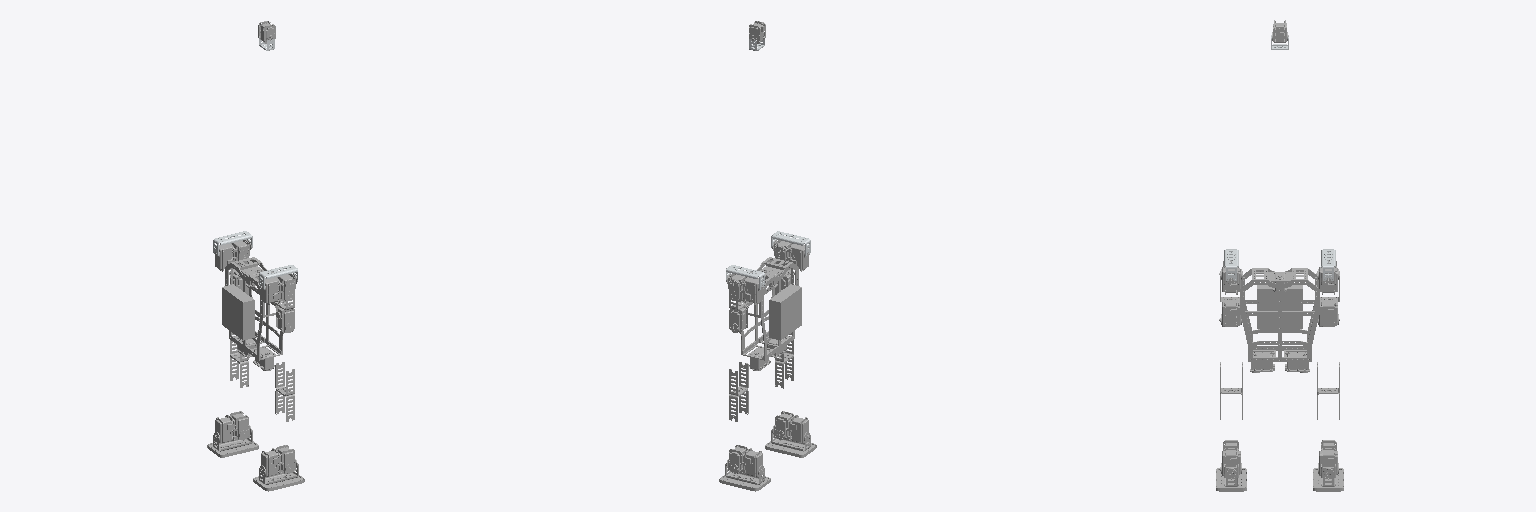
The robot description file, URDF, robot "main_new_feet_no_arm_update_motor":
<?xml version="1.0" encoding="utf-8"?>
<!-- This URDF was automatically created by SolidWorks to URDF Exporter! Originally created by [author] ([email redacted]) 
     Commit Version: 1.5.0-0-g9aa0fdb  Build Version: 1.5.7004.21443
     For more information, please see http://wiki.ros.org/sw_urdf_exporter -->
<robot
  name="main_new_feet_no_arm_update_motor">
  <link
    name="torso">
    <inertial>
      <origin
        xyz="-0.01281 -1E-05 0.48997"
        rpy="0 0 0" />
      <mass
        value="1.558" />
      <inertia
        ixx="0.0037818"
        ixy="6.95E-12"
        ixz="-3.05E-07"
        iyy="0.0022099"
        iyz="-8.01E-13"
        izz="0.0020099" />
    </inertial>
    <visual>
      <origin
        xyz="0 0 0"
        rpy="0 0 0" />
      <geometry>
        <mesh
          filename="package://main_new_feet_no_arm_update_motor/meshes/torso.STL" />
      </geometry>
      <material
        name="">
        <color
          rgba="0.75294 0.75294 0.75294 1" />
      </material>
    </visual>
    <collision>
      <origin
        xyz="0 0 0"
        rpy="0 0 0" />
      <geometry>
        <mesh
          filename="package://main_new_feet_no_arm_update_motor/meshes/torso.STL" />
      </geometry>
    </collision>
  </link>
  <link
    name="head_p">
    <inertial>
      <origin
        xyz="0 0 -0.023536"
        rpy="0 0 0" />
      <mass
        value="0.0091975" />
      <inertia
        ixx="3.69E-06"
        ixy="1.59E-22"
        ixz="1.56E-21"
        iyy="1.5E-06"
        iyz="-3.97E-21"
        izz="3.35E-06" />
    </inertial>
    <visual>
      <origin
        xyz="0 0 0"
        rpy="0 0 0" />
      <geometry>
        <mesh
          filename="package://main_new_feet_no_arm_update_motor/meshes/head_p.STL" />
      </geometry>
      <material
        name="">
        <color
          rgba="0.89804 0.91765 0.92941 1" />
      </material>
    </visual>
    <collision>
      <origin
        xyz="0 0 0"
        rpy="0 0 0" />
      <geometry>
        <mesh
          filename="package://main_new_feet_no_arm_update_motor/meshes/head_p.STL" />
      </geometry>
    </collision>
  </link>
  <joint
    name="j_head_p"
    type="revolute">
    <origin
      xyz="0.0264999999999754 0 0.648964000000025"
      rpy="0 0 0" />
    <parent
      link="torso" />
    <child
      link="head_p" />
    <axis
      xyz="0 0 1" />
    <limit
      lower="-1.57"
      upper="1.57"
      effort="16"
      velocity="3" />
    <safety_controller
      k_velocity="0" />
  </joint>
  <link
    name="head_t">
    <inertial>
      <origin
        xyz="0.00024 0.0003 0.0127"
        rpy="0 0 0" />
      <mass
        value="0.07613" />
      <inertia
        ixx="2E-05"
        ixy="7.33E-13"
        ixz="1.74E-12"
        iyy="1.7E-05"
        iyz="3.01E-07"
        izz="1.23E-05" />
    </inertial>
    <visual>
      <origin
        xyz="0 0 0"
        rpy="0 0 0" />
      <geometry>
        <mesh
          filename="package://main_new_feet_no_arm_update_motor/meshes/head_t.STL" />
      </geometry>
      <material
        name="">
        <color
          rgba="0.752941176470588 0.752941176470588 0.752941176470588 1" />
      </material>
    </visual>
    <collision>
      <origin
        xyz="0 0 0"
        rpy="0 0 0" />
      <geometry>
        <mesh
          filename="package://main_new_feet_no_arm_update_motor/meshes/head_t.STL" />
      </geometry>
    </collision>
  </link>
  <joint
    name="j_head_t"
    type="revolute">
    <origin
      xyz="0 -0.000250000000001388 0"
      rpy="0 0 0" />
    <parent
      link="head_p" />
    <child
      link="head_t" />
    <axis
      xyz="0 1 0" />
    <limit
      lower="-1.57"
      upper="1.57"
      effort="16"
      velocity="3" />
    <safety_controller
      k_velocity="0" />
  </joint>
  <link
    name="leg_r_hip_y">
    <inertial>
      <origin
        xyz="-0.019 0 0.029685"
        rpy="0 0 0" />
      <mass
        value="0.031031" />
      <inertia
        ixx="7.47E-06"
        ixy="1.86E-20"
        ixz="-2E-20"
        iyy="4.57E-05"
        iyz="1.4E-20"
        izz="4.68E-05" />
    </inertial>
    <visual>
      <origin
        xyz="0 0 0"
        rpy="0 0 0" />
      <geometry>
        <mesh
          filename="package://main_new_feet_no_arm_update_motor/meshes/leg_r_hip_y.STL" />
      </geometry>
      <material
        name="">
        <color
          rgba="0.89804 0.91765 0.92941 1" />
      </material>
    </visual>
    <collision>
      <origin
        xyz="0 0 0"
        rpy="0 0 0" />
      <geometry>
        <mesh
          filename="package://main_new_feet_no_arm_update_motor/meshes/leg_r_hip_y.STL" />
      </geometry>
    </collision>
  </link>
  <joint
    name="j_leg_r_hip_y"
    type="revolute">
    <origin
      xyz="0.018999999999975 -0.0612500000000002 0.315000000000024"
      rpy="0 0 0" />
    <parent
      link="torso" />
    <child
      link="leg_r_hip_y" />
    <axis
      xyz="0 0 1" />
    <limit
      lower="-1.57"
      upper="1.57"
      effort="16"
      velocity="3" />
    <safety_controller
      k_velocity="0" />
  </joint>
  <link
    name="leg_r_hip_r">
    <inertial>
      <origin
        xyz="-0.0209 -0.00096 0.01844"
        rpy="0 0 0" />
      <mass
        value="0.32716" />
      <inertia
        ixx="0.00013415"
        ixy="3.42E-12"
        ixz="1.85E-06"
        iyy="0.00013269"
        iyz="1.88E-06"
        izz="8.36E-05" />
    </inertial>
    <visual>
      <origin
        xyz="0 0 0"
        rpy="0 0 0" />
      <geometry>
        <mesh
          filename="package://main_new_feet_no_arm_update_motor/meshes/leg_r_hip_r.STL" />
      </geometry>
      <material
        name="">
        <color
          rgba="0.75294 0.75294 0.75294 1" />
      </material>
    </visual>
    <collision>
      <origin
        xyz="0 0 0"
        rpy="0 0 0" />
      <geometry>
        <mesh
          filename="package://main_new_feet_no_arm_update_motor/meshes/leg_r_hip_r.STL" />
      </geometry>
    </collision>
  </link>
  <joint
    name="j_leg_r_hip_r"
    type="revolute">
    <origin
      xyz="0.000500000000000056 0 0"
      rpy="0 0 0" />
    <parent
      link="leg_r_hip_y" />
    <child
      link="leg_r_hip_r" />
    <axis
      xyz="1 0 0" />
    <limit
      lower="-1.57"
      upper="1.57"
      effort="16"
      velocity="3" />
    <safety_controller
      k_velocity="0" />
  </joint>
  <link
    name="leg_r_hip_p">
    <inertial>
      <origin
        xyz="-0.00016 -0.00155 -0.0983"
        rpy="0 0 0" />
      <mass
        value="0.187828259" />
      <inertia
        ixx="0.000102845"
        ixy="4.09E-09"
        ixz="-2.79E-08"
        iyy="7.48E-05"
        iyz="-1.87E-06"
        izz="5.88E-05" />
    </inertial>
    <visual>
      <origin
        xyz="0 0 0"
        rpy="0 0 0" />
      <geometry>
        <mesh
          filename="package://main_new_feet_no_arm_update_motor/meshes/leg_r_hip_p.STL" />
      </geometry>
      <material
        name="">
        <color
          rgba="0.752941176470588 0.752941176470588 0.752941176470588 1" />
      </material>
    </visual>
    <collision>
      <origin
        xyz="0 0 0"
        rpy="0 0 0" />
      <geometry>
        <mesh
          filename="package://main_new_feet_no_arm_update_motor/meshes/leg_r_hip_p.STL" />
      </geometry>
    </collision>
  </link>
  <joint
    name="j_leg_r_hip_p"
    type="revolute">
    <origin
      xyz="0 0 0"
      rpy="0 0 0" />
    <parent
      link="leg_r_hip_r" />
    <child
      link="leg_r_hip_p" />
    <axis
      xyz="0 -1 0" />
    <limit
      lower="-1.57"
      upper="1.57"
      effort="16"
      velocity="3" />
    <safety_controller
      k_velocity="0" />
  </joint>
  <link
    name="leg_r_knee">
    <inertial>
      <origin
        xyz="0 0 -0.072"
        rpy="0 0 0" />
      <mass
        value="0.047124436" />
      <inertia
        ixx="5.6E-05"
        ixy="-5.08E-21"
        ixz="1.68E-20"
        iyy="3.18E-05"
        iyz="2.72E-08"
        izz="3.15E-05" />
    </inertial>
    <visual>
      <origin
        xyz="0 0 0"
        rpy="0 0 0" />
      <geometry>
        <mesh
          filename="package://main_new_feet_no_arm_update_motor/meshes/leg_r_knee.STL" />
      </geometry>
      <material
        name="">
        <color
          rgba="0.752941176470588 0.752941176470588 0.752941176470588 1" />
      </material>
    </visual>
    <collision>
      <origin
        xyz="0 0 0"
        rpy="0 0 0" />
      <geometry>
        <mesh
          filename="package://main_new_feet_no_arm_update_motor/meshes/leg_r_knee.STL" />
      </geometry>
    </collision>
  </link>
  <joint
    name="j_leg_r_knee"
    type="revolute">
    <origin
      xyz="0 0 -0.126500000000018"
      rpy="0 0 0" />
    <parent
      link="leg_r_hip_p" />
    <child
      link="leg_r_knee" />
    <axis
      xyz="0 -1 0" />
    <limit
      lower="-3.14"
      upper="3.14"
      effort="16"
      velocity="3" />
    <safety_controller
      k_velocity="0" />
  </joint>
  <link
    name="leg_r_ankle_p">
    <inertial>
      <origin
        xyz="-0.021 -0.00083 0.0185"
        rpy="0 0 0" />
      <mass
        value="0.326972718" />
      <inertia
        ixx="0.000134144"
        ixy="-3.09E-12"
        ixz="-1.86E-06"
        iyy="0.000132683"
        iyz="-1.88E-06"
        izz="8.36E-05" />
    </inertial>
    <visual>
      <origin
        xyz="0 0 0"
        rpy="0 0 0" />
      <geometry>
        <mesh
          filename="package://main_new_feet_no_arm_update_motor/meshes/leg_r_ankle_p.STL" />
      </geometry>
      <material
        name="">
        <color
          rgba="0.752941176470588 0.752941176470588 0.752941176470588 1" />
      </material>
    </visual>
    <collision>
      <origin
        xyz="0 0 0"
        rpy="0 0 0" />
      <geometry>
        <mesh
          filename="package://main_new_feet_no_arm_update_motor/meshes/leg_r_ankle_p.STL" />
      </geometry>
    </collision>
  </link>
  <joint
    name="j_leg_r_ankle_p"
    type="revolute">
    <origin
      xyz="0 0 -0.144000000000011"
      rpy="0 0 0" />
    <parent
      link="leg_r_knee" />
    <child
      link="leg_r_ankle_p" />
    <axis
      xyz="0 1 0" />
    <limit
      lower="-1.57"
      upper="1.57"
      effort="16"
      velocity="3" />
    <safety_controller
      k_velocity="0" />
  </joint>
  <link
    name="leg_r_ankle_r">
    <inertial>
      <origin
        xyz="-0.0195 0 -0.037628795"
        rpy="0 0 0" />
      <mass
        value="0.110581864" />
      <inertia
        ixx="5.19E-05"
        ixy="-5.56E-11"
        ixz="-4.52E-20"
        iyy="0.000143529"
        iyz="-4.81E-20"
        izz="0.000188702" />
    </inertial>
    <visual>
      <origin
        xyz="0 0 0"
        rpy="0 0 0" />
      <geometry>
        <mesh
          filename="package://main_new_feet_no_arm_update_motor/meshes/leg_r_ankle_r.STL" />
      </geometry>
      <material
        name="">
        <color
          rgba="0.752941176470588 0.752941176470588 0.752941176470588 1" />
      </material>
    </visual>
    <collision>
      <origin
        xyz="0 0 0"
        rpy="0 0 0" />
      <geometry>
        <mesh
          filename="package://main_new_feet_no_arm_update_motor/meshes/leg_r_ankle_r.STL" />
      </geometry>
    </collision>
  </link>
  <joint
    name="j_leg_r_ankle_r"
    type="revolute">
    <origin
      xyz="0 0 0"
      rpy="0 0 0" />
    <parent
      link="leg_r_ankle_p" />
    <child
      link="leg_r_ankle_r" />
    <axis
      xyz="1 0 0" />
    <limit
      lower="-1.57"
      upper="1.57"
      effort="16"
      velocity="3" />
    <safety_controller
      k_velocity="0" />
  </joint>
  <link
    name="leg_l_hip_y">
    <inertial>
      <origin
        xyz="-0.019 0 0.029684933"
        rpy="0 0 0" />
      <mass
        value="0.031030679" />
      <inertia
        ixx="7.47E-06"
        ixy="-8.05E-21"
        ixz="-4.28E-20"
        iyy="4.57E-05"
        iyz="1.69E-20"
        izz="4.68E-05" />
    </inertial>
    <visual>
      <origin
        xyz="0 0 0"
        rpy="0 0 0" />
      <geometry>
        <mesh
          filename="package://main_new_feet_no_arm_update_motor/meshes/leg_l_hip_y.STL" />
      </geometry>
      <material
        name="">
        <color
          rgba="0.898039215686275 0.917647058823529 0.929411764705882 1" />
      </material>
    </visual>
    <collision>
      <origin
        xyz="0 0 0"
        rpy="0 0 0" />
      <geometry>
        <mesh
          filename="package://main_new_feet_no_arm_update_motor/meshes/leg_l_hip_y.STL" />
      </geometry>
    </collision>
  </link>
  <joint
    name="j_leg_l_hip_y"
    type="revolute">
    <origin
      xyz="0.018999999999975 0.06125 0.315000000000024"
      rpy="0 0 0" />
    <parent
      link="torso" />
    <child
      link="leg_l_hip_y" />
    <axis
      xyz="0 0 1" />
    <limit
      lower="-1.57"
      upper="1.57"
      effort="16"
      velocity="3" />
    <safety_controller
      k_velocity="0" />
  </joint>
  <link
    name="leg_l_hip_r">
    <inertial>
      <origin
        xyz="-0.0209 -0.00096 0.01844"
        rpy="0 0 0" />
      <mass
        value="0.327163614" />
      <inertia
        ixx="0.000134145"
        ixy="3.42E-12"
        ixz="1.85E-06"
        iyy="0.000132688"
        iyz="1.88E-06"
        izz="8.36E-05" />
    </inertial>
    <visual>
      <origin
        xyz="0 0 0"
        rpy="0 0 0" />
      <geometry>
        <mesh
          filename="package://main_new_feet_no_arm_update_motor/meshes/leg_l_hip_r.STL" />
      </geometry>
      <material
        name="">
        <color
          rgba="0.752941176470588 0.752941176470588 0.752941176470588 1" />
      </material>
    </visual>
    <collision>
      <origin
        xyz="0 0 0"
        rpy="0 0 0" />
      <geometry>
        <mesh
          filename="package://main_new_feet_no_arm_update_motor/meshes/leg_l_hip_r.STL" />
      </geometry>
    </collision>
  </link>
  <joint
    name="j_leg_l_hip_r"
    type="revolute">
    <origin
      xyz="0.000500000000000028 0 0"
      rpy="0 0 0" />
    <parent
      link="leg_l_hip_y" />
    <child
      link="leg_l_hip_r" />
    <axis
      xyz="1 0 0" />
    <limit
      lower="-1.57"
      upper="1.57"
      effort="16"
      velocity="3" />
    <safety_controller
      k_velocity="0" />
  </joint>
  <link
    name="leg_l_hip_p">
    <inertial>
      <origin
        xyz="-0.00016 -0.00155 -0.0983"
        rpy="0 0 0" />
      <mass
        value="0.187828259" />
      <inertia
        ixx="0.000102845"
        ixy="4.09E-09"
        ixz="-2.79E-08"
        iyy="7.48E-05"
        iyz="-1.87E-06"
        izz="5.88E-05" />
    </inertial>
    <visual>
      <origin
        xyz="0 0 0"
        rpy="0 0 0" />
      <geometry>
        <mesh
          filename="package://main_new_feet_no_arm_update_motor/meshes/leg_l_hip_p.STL" />
      </geometry>
      <material
        name="">
        <color
          rgba="0.752941176470588 0.752941176470588 0.752941176470588 1" />
      </material>
    </visual>
    <collision>
      <origin
        xyz="0 0 0"
        rpy="0 0 0" />
      <geometry>
        <mesh
          filename="package://main_new_feet_no_arm_update_motor/meshes/leg_l_hip_p.STL" />
      </geometry>
    </collision>
  </link>
  <joint
    name="j_leg_l_hip_p"
    type="revolute">
    <origin
      xyz="0 0 0"
      rpy="0 0 0" />
    <parent
      link="leg_l_hip_r" />
    <child
      link="leg_l_hip_p" />
    <axis
      xyz="0 -1 0" />
    <limit
      lower="-1.57"
      upper="1.57"
      effort="16"
      velocity="3" />
    <safety_controller
      k_velocity="0" />
  </joint>
  <link
    name="leg_l_knee">
    <inertial>
      <origin
        xyz="0 0 -0.072"
        rpy="0 0 0" />
      <mass
        value="0.047124436" />
      <inertia
        ixx="5.6E-05"
        ixy="9.32E-21"
        ixz="-3.07E-21"
        iyy="3.18E-05"
        iyz="2.72E-08"
        izz="3.15E-05" />
    </inertial>
    <visual>
      <origin
        xyz="0 0 0"
        rpy="0 0 0" />
      <geometry>
        <mesh
          filename="package://main_new_feet_no_arm_update_motor/meshes/leg_l_knee.STL" />
      </geometry>
      <material
        name="">
        <color
          rgba="0.752941176470588 0.752941176470588 0.752941176470588 1" />
      </material>
    </visual>
    <collision>
      <origin
        xyz="0 0 0"
        rpy="0 0 0" />
      <geometry>
        <mesh
          filename="package://main_new_feet_no_arm_update_motor/meshes/leg_l_knee.STL" />
      </geometry>
    </collision>
  </link>
  <joint
    name="j_leg_l_knee"
    type="revolute">
    <origin
      xyz="0 0 -0.126499999999996"
      rpy="0 0 0" />
    <parent
      link="leg_l_hip_p" />
    <child
      link="leg_l_knee" />
    <axis
      xyz="0 -1 0" />
    <limit
      lower="-3.14"
      upper="3.14"
      effort="16"
      velocity="3" />
    <safety_controller
      k_velocity="0" />
  </joint>
  <link
    name="leg_l_ankle_p">
    <inertial>
      <origin
        xyz="-0.021 -0.00083 0.0185"
        rpy="0 0 0" />
      <mass
        value="0.326972718" />
      <inertia
        ixx="0.000134144"
        ixy="-3.09E-12"
        ixz="-1.86E-06"
        iyy="0.000132683"
        iyz="-1.88E-06"
        izz="8.36E-05" />
    </inertial>
    <visual>
      <origin
        xyz="0 0 0"
        rpy="0 0 0" />
      <geometry>
        <mesh
          filename="package://main_new_feet_no_arm_update_motor/meshes/leg_l_ankle_p.STL" />
      </geometry>
      <material
        name="">
        <color
          rgba="0.752941176470588 0.752941176470588 0.752941176470588 1" />
      </material>
    </visual>
    <collision>
      <origin
        xyz="0 0 0"
        rpy="0 0 0" />
      <geometry>
        <mesh
          filename="package://main_new_feet_no_arm_update_motor/meshes/leg_l_ankle_p.STL" />
      </geometry>
    </collision>
  </link>
  <joint
    name="j_leg_l_ankle_p"
    type="revolute">
    <origin
      xyz="0 0 -0.144000000000011"
      rpy="0 0 0" />
    <parent
      link="leg_l_knee" />
    <child
      link="leg_l_ankle_p" />
    <axis
      xyz="0 1 0" />
    <limit
      lower="-1.57"
      upper="1.57"
      effort="16"
      velocity="3" />
    <safety_controller
      k_velocity="0" />
  </joint>
  <link
    name="leg_l_ankle_r">
    <inertial>
      <origin
        xyz="-0.0195 0 -0.037628795"
        rpy="0 0 0" />
      <mass
        value="0.110581864" />
      <inertia
        ixx="5.19E-05"
        ixy="-5.56E-11"
        ixz="-6.14E-20"
        iyy="0.000143529"
        iyz="1.09E-20"
        izz="0.000188702" />
    </inertial>
    <visual>
      <origin
        xyz="0 0 0"
        rpy="0 0 0" />
      <geometry>
        <mesh
          filename="package://main_new_feet_no_arm_update_motor/meshes/leg_l_ankle_r.STL" />
      </geometry>
      <material
        name="">
        <color
          rgba="0.752941176470588 0.752941176470588 0.752941176470588 1" />
      </material>
    </visual>
    <collision>
      <origin
        xyz="0 0 0"
        rpy="0 0 0" />
      <geometry>
        <mesh
          filename="package://main_new_feet_no_arm_update_motor/meshes/leg_l_ankle_r.STL" />
      </geometry>
    </collision>
  </link>
  <joint
    name="j_leg_l_ankle_r"
    type="revolute">
    <origin
      xyz="0 0 0"
      rpy="0 0 0" />
    <parent
      link="leg_l_ankle_p" />
    <child
      link="leg_l_ankle_r" />
    <axis
      xyz="1 0 0" />
    <limit
      lower="-1.57"
      upper="1.57"
      effort="16"
      velocity="3" />
    <safety_controller
      k_velocity="0" />
  </joint>
</robot>

--- What the picture shows (computed from the rendered views, not written in the file) ---
Views: 3 orthographic renders of the robot side by side, from view 1: azimuth 30°, elevation 25°; view 2: azimuth 150°, elevation 25°; view 3: azimuth 270°, elevation 25°.
Model main_new_feet_no_arm_update_motor with 15 links and 14 joints (14 revolute), rooted at torso, posed every joint at zero.
Links seen in each view (by area): view 1: torso, leg_r_ankle_p, leg_l_ankle_p, leg_r_knee, leg_r_hip_r, leg_l_ankle_r, leg_r_ankle_r, leg_r_hip_p, leg_l_hip_r, leg_l_knee; view 2: torso, leg_r_ankle_p, leg_l_ankle_p, leg_l_knee, leg_l_hip_r, leg_r_ankle_r, leg_l_ankle_r, leg_l_hip_p, leg_r_hip_r, leg_r_knee; view 3: torso, leg_r_ankle_p, leg_l_ankle_p, leg_r_hip_p, leg_l_hip_p, leg_r_ankle_r, leg_l_ankle_r.
Boxes of the visible links, box(x1,y1,x2,y2) form: torso: box(222, 257, 283, 370); leg_r_ankle_p: box(260, 445, 297, 476); leg_l_ankle_p: box(214, 411, 251, 442); leg_r_knee: box(275, 362, 294, 421); leg_r_hip_r: box(260, 273, 297, 304); leg_l_ankle_r: box(207, 430, 258, 457); leg_r_ankle_r: box(253, 464, 304, 491); leg_r_hip_p: box(275, 283, 294, 332); leg_l_hip_r: box(215, 240, 251, 271); leg_l_knee: box(230, 333, 248, 387); torso: box(740, 257, 801, 370); leg_r_ankle_p: box(772, 411, 809, 442); leg_l_ankle_p: box(726, 445, 763, 476); leg_l_knee: box(729, 362, 748, 421); leg_l_hip_r: box(726, 274, 763, 304); leg_r_ankle_r: box(765, 430, 816, 457); leg_l_ankle_r: box(719, 464, 770, 491); leg_l_hip_p: box(729, 283, 748, 332); leg_r_hip_r: box(772, 240, 809, 271); leg_r_knee: box(775, 333, 793, 388); torso: box(1240, 268, 1319, 372); leg_r_ankle_p: box(1219, 440, 1242, 477); leg_l_ankle_p: box(1316, 440, 1339, 477); leg_r_hip_p: box(1219, 271, 1242, 326); leg_l_hip_p: box(1317, 271, 1339, 326); leg_r_ankle_r: box(1216, 468, 1246, 491); leg_l_ankle_r: box(1313, 468, 1343, 491).
Size in the robot's own frame: 0.1323 by 0.325 by 1.29 metres.
Meshes: 15 distinct files referenced, 15 mesh visuals loaded (15 binary STL).